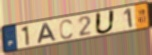1: (123, 7, 134, 29), (21, 25, 31, 47)
2: (78, 15, 93, 38)
A: (37, 22, 58, 44)
C: (59, 18, 74, 40)
U: (94, 9, 117, 35)
